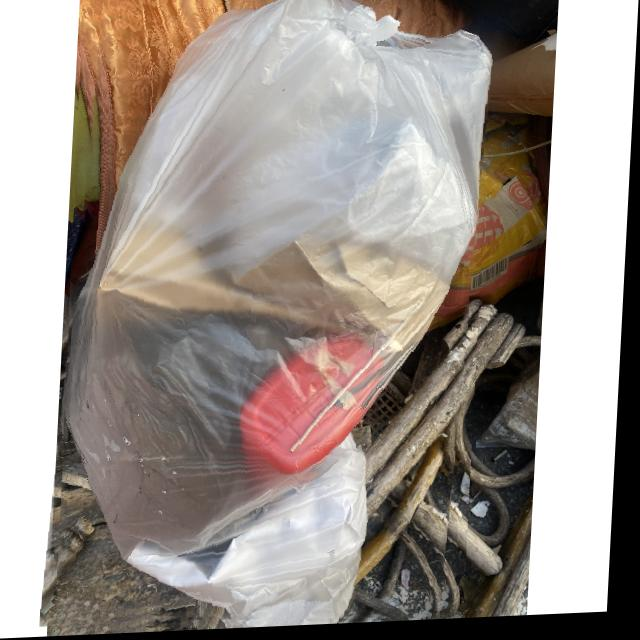other_trashbag: (69, 0, 492, 624)
